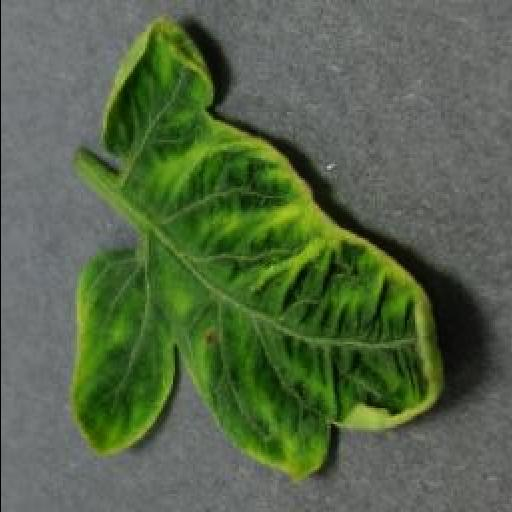disease_tomato: (68, 16, 454, 482)
